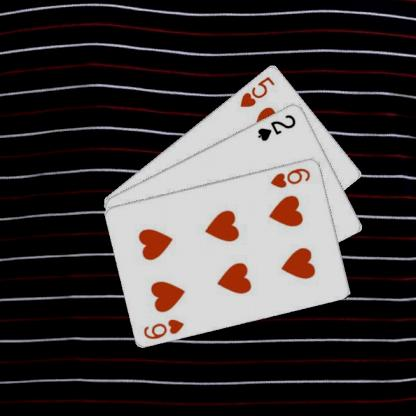2S: (255, 112, 297, 142)
5H: (237, 73, 276, 109)
6H: (268, 165, 312, 189), (141, 316, 185, 340)
